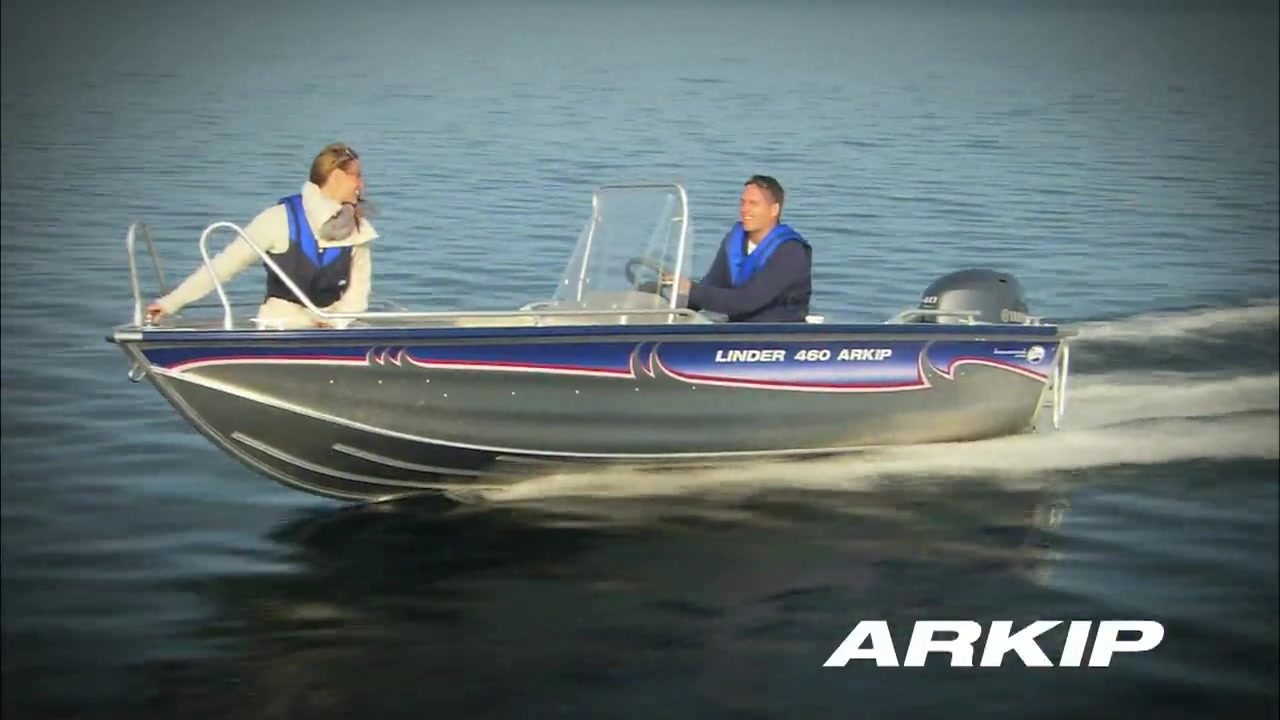boat: (100, 180, 1080, 509)
